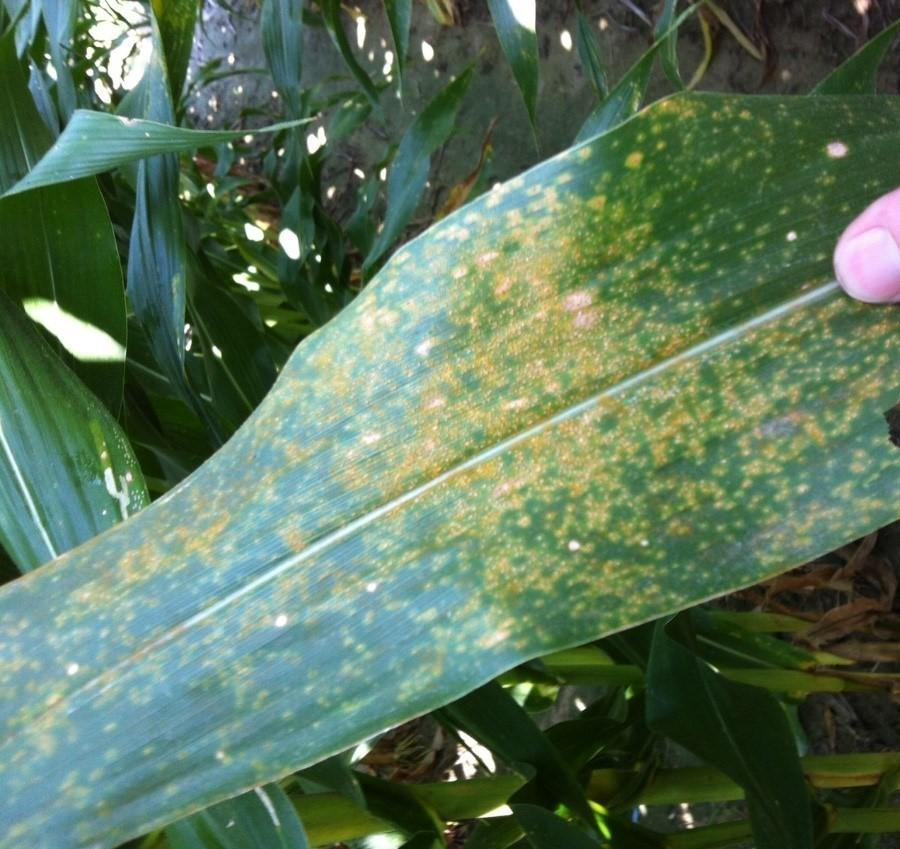Corn_Common_Rust: (178, 161, 559, 810), (521, 97, 900, 652), (0, 455, 210, 849)
